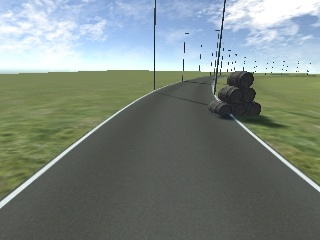strange_object: (205, 69, 262, 120)
